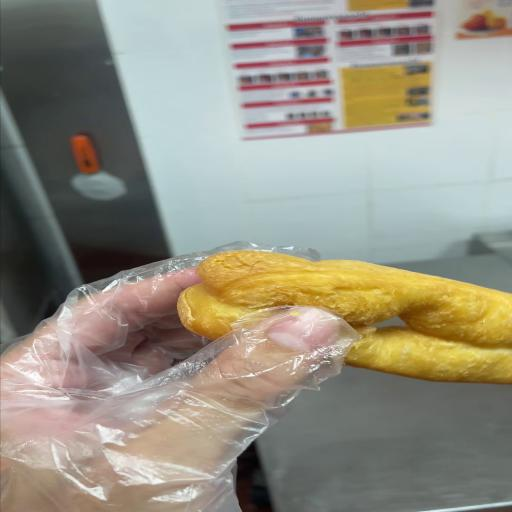brand_golden_defect: (178, 251, 512, 384)
